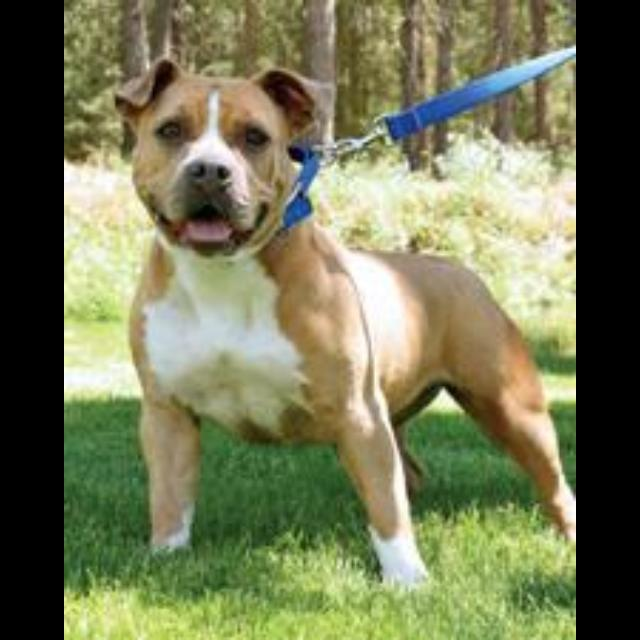staffford: (111, 56, 574, 593)
